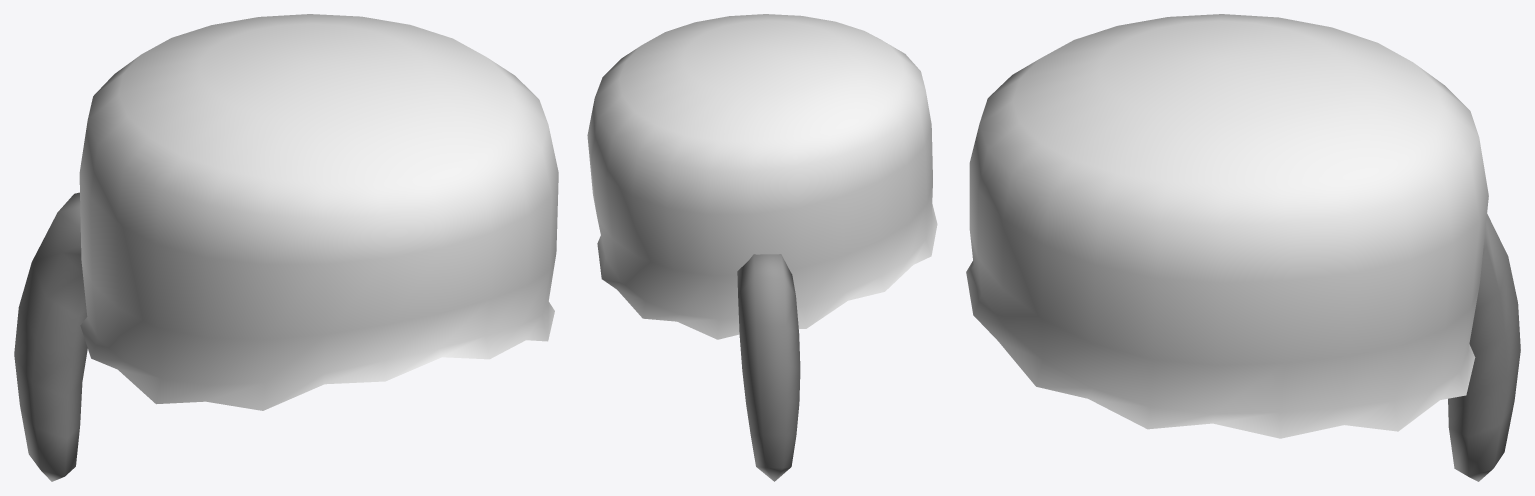
The model's file is tailcap.glb.
3 views of the same model, side by side, from view 1: azimuth 30°, elevation 25°; view 2: azimuth 150°, elevation 25°; view 3: azimuth 270°, elevation 25° (orthographic). The views are drawn at different scales.
Parts seen in each view (by area): view 1: Tailcap; view 2: Tailcap; view 3: Tailcap.
Boxes of the visible parts, bbox=[...] form: Tailcap: bbox=[14, 14, 558, 481]; Tailcap: bbox=[587, 14, 937, 481]; Tailcap: bbox=[966, 14, 1520, 481].
Size of the model in its own units: 9.82 by 10.85 by 11.17.
Materials: 1 (1 with a texture image).
